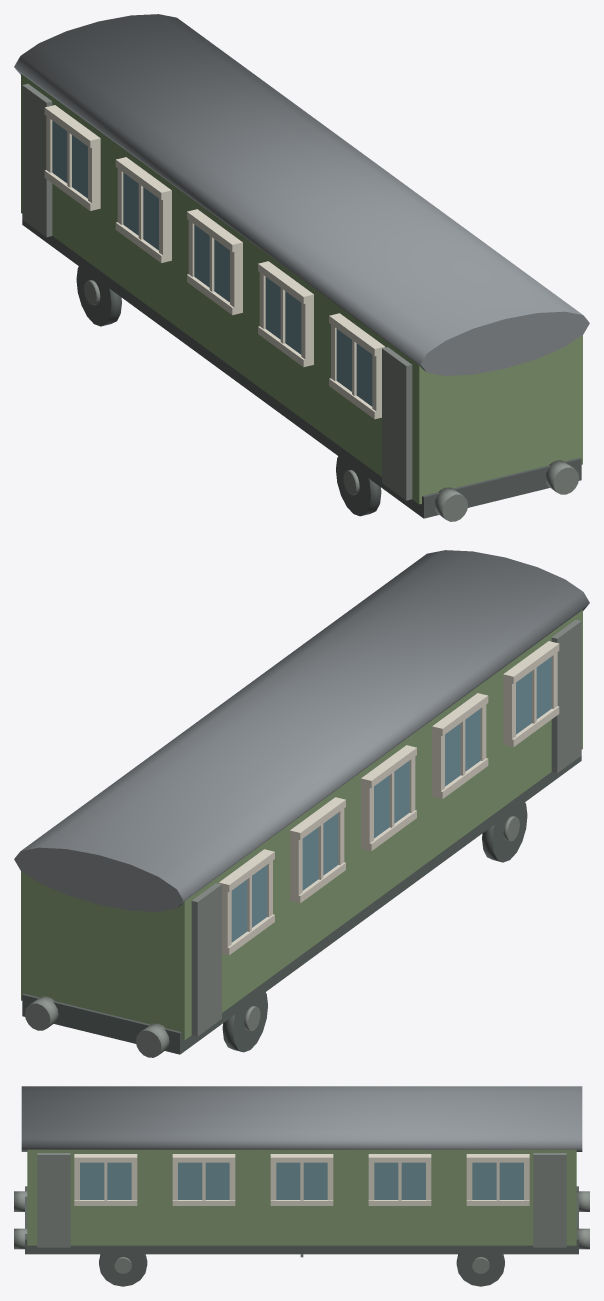
File: rhine-coach_lod0.glb
3 renders of one model, top to bottom at view 1: azimuth 30°, elevation 25°; view 2: azimuth 150°, elevation 25°; view 3: azimuth 270°, elevation 25°, orthographic. The views are drawn at different scales.
Visible parts, largest first — view 1: RF_CoachRoof, RF_CoachBody, RF_RoofLowerMask, RF_Chassis, RF_CarDoor.001, RF_CarDoor.002, RF_Window.001, RF_Window.002, RF_Window.004, RF_Window.003, RF_Window.005, RF_Wheel.003 (+12 smaller); view 2: RF_CoachRoof, RF_CoachBody, RF_RoofLowerMask, RF_Chassis, RF_CarDoor.002, RF_CarDoor.001, RF_Window.004, RF_Window.005, RF_Window.002, RF_Window.001, RF_Window.003, RF_Wheel.001 (+13 smaller); view 3: RF_CoachRoof, RF_CoachBody, RF_Chassis, RF_CarDoor.003, RF_CarDoor, RF_RoofLowerMask, RF_Window.006, RF_Window, RF_Window.007, RF_Window.008, RF_Window.009, RF_Wheel.002 (+11 smaller).
Part boxes in pixels (x1,y1,x2,y2): RF_CoachRoof: (14,14,589,375); RF_CoachBody: (21,74,582,504); RF_RoofLowerMask: (21,74,582,442); RF_Chassis: (22,220,581,518); RF_CarDoor.001: (382,347,412,500); RF_CarDoor.002: (22,83,52,237); RF_Window.001: (336,329,372,406); RF_Window.002: (265,277,301,354); RF_Window.004: (123,172,158,250); RF_Window.003: (194,224,229,302); RF_Window.005: (52,121,87,198); RF_Wheel.003: (76,266,121,326); RF_CoachRoof: (14,550,589,911); RF_CoachBody: (21,610,582,1040); RF_RoofLowerMask: (21,610,582,978); RF_Chassis: (22,756,581,1054); RF_CarDoor.002: (191,883,221,1036); RF_CarDoor.001: (551,619,581,773); RF_Window.004: (302,813,338,890); RF_Window.005: (231,865,267,942); RF_Window.002: (445,708,480,786); RF_Window.001: (516,657,551,734); RF_Window.003: (374,760,409,838); RF_Wheel.001: (482,802,527,862); RF_CoachRoof: (21,1086,582,1151); RF_CoachBody: (27,1149,576,1245); RF_Chassis: (25,1186,578,1254); RF_CarDoor.003: (37,1153,70,1247); RF_CarDoor: (533,1153,566,1247); RF_RoofLowerMask: (27,1149,576,1203); RF_Window.006: (80,1162,131,1199); RF_Window: (472,1162,523,1199); RF_Window.007: (178,1162,229,1199); RF_Window.008: (276,1162,327,1199); RF_Window.009: (374,1162,425,1199); RF_Wheel.002: (99,1254,147,1286).
Size of the model in its own units: 3.16 by 3.76 by 12.38.
